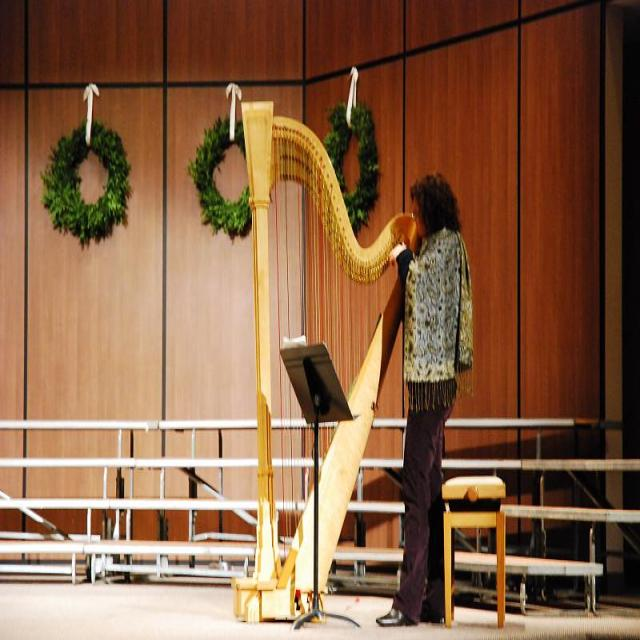harp: (229, 89, 422, 626)
